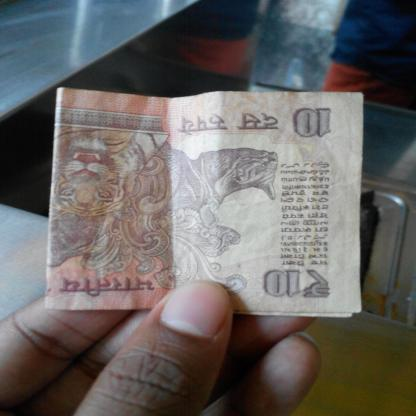Old10Back: (46, 86, 365, 319)
